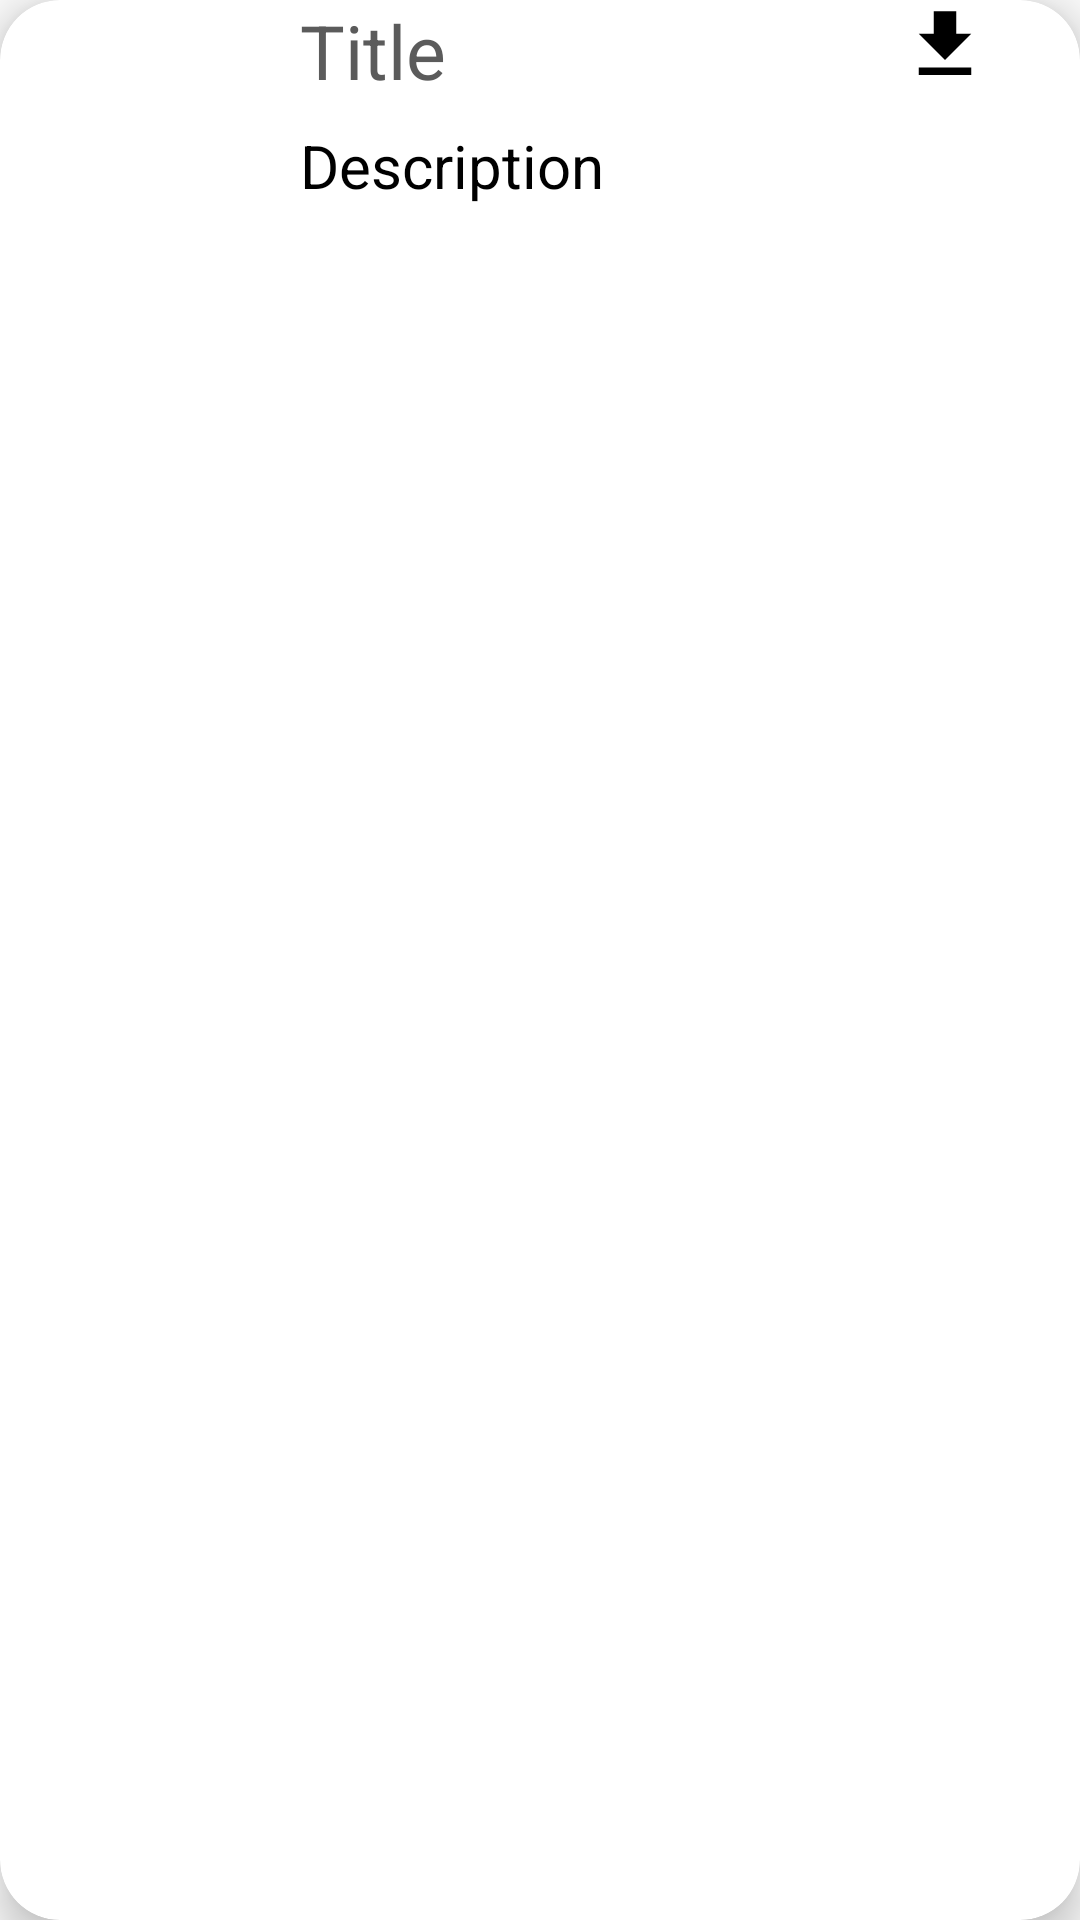

Where to tap for icons on this 1080 x 1920 app screen, as (x=x, y=y):
file download: (x=945, y=43)
